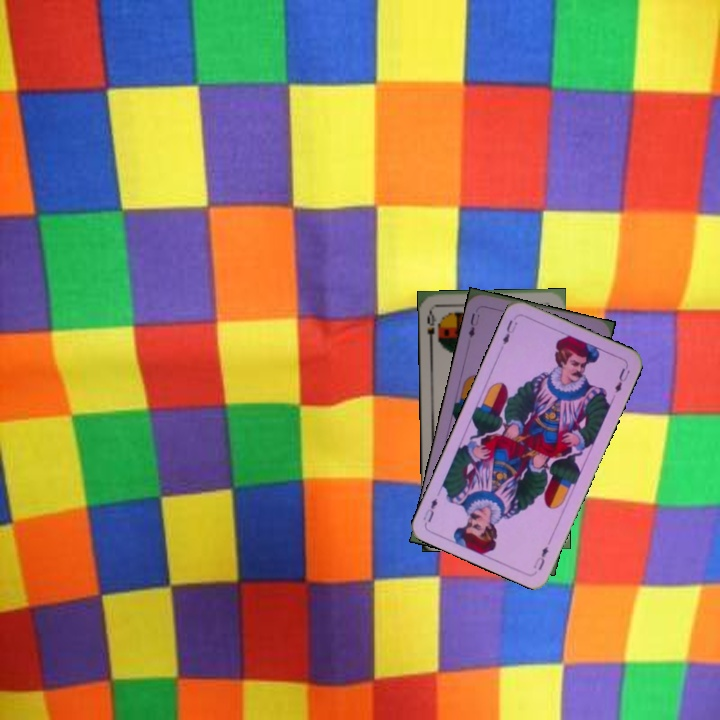EU: (498, 316, 520, 347), (529, 542, 551, 573), (464, 309, 483, 340)
SO: (423, 306, 439, 346)
